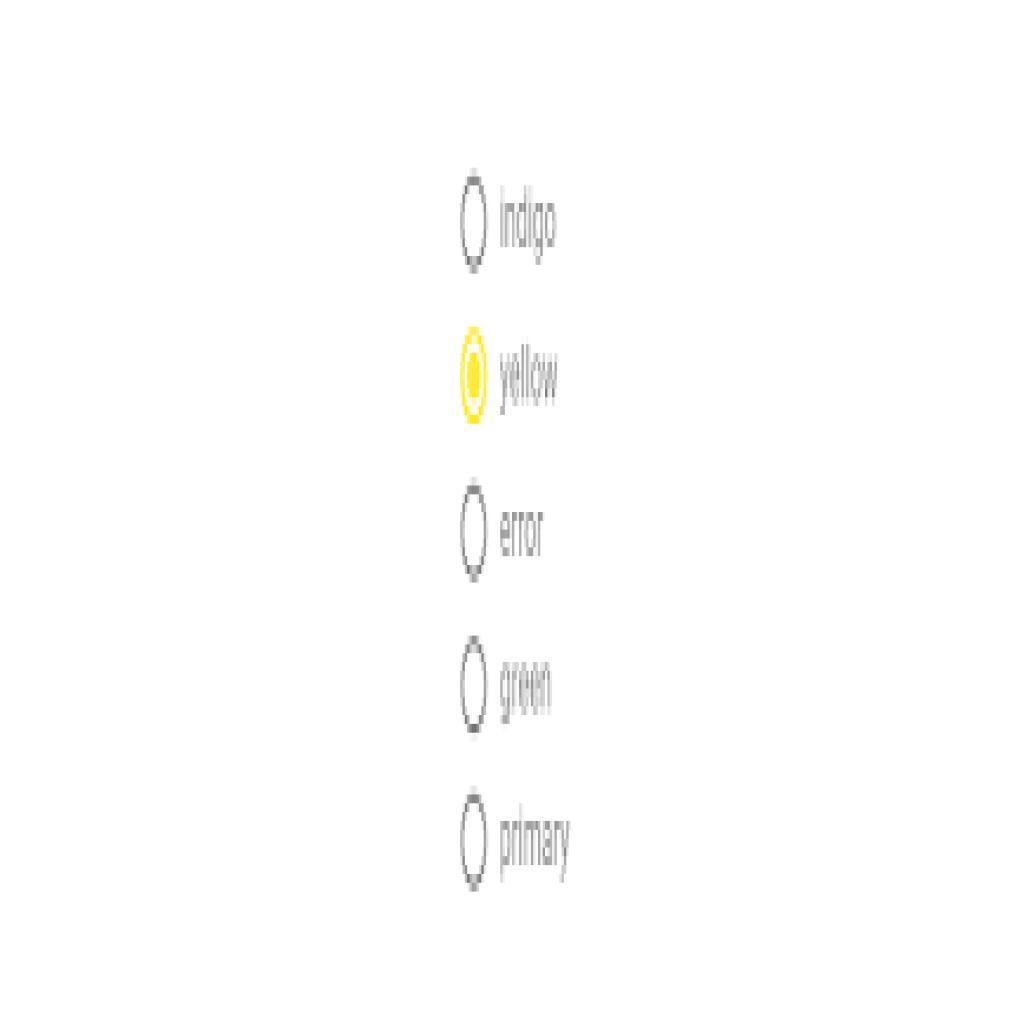radio: (456, 321, 493, 432), (458, 633, 492, 741), (460, 164, 491, 278), (458, 785, 489, 896), (457, 477, 488, 587)
